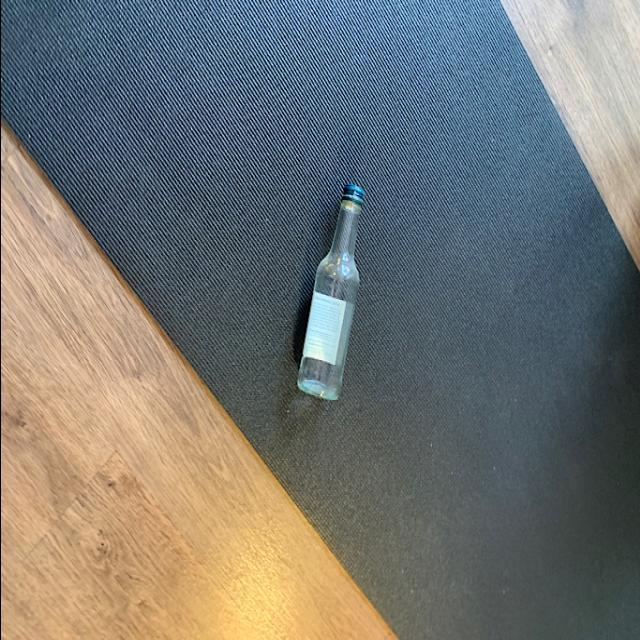litter: (294, 182, 364, 404)
